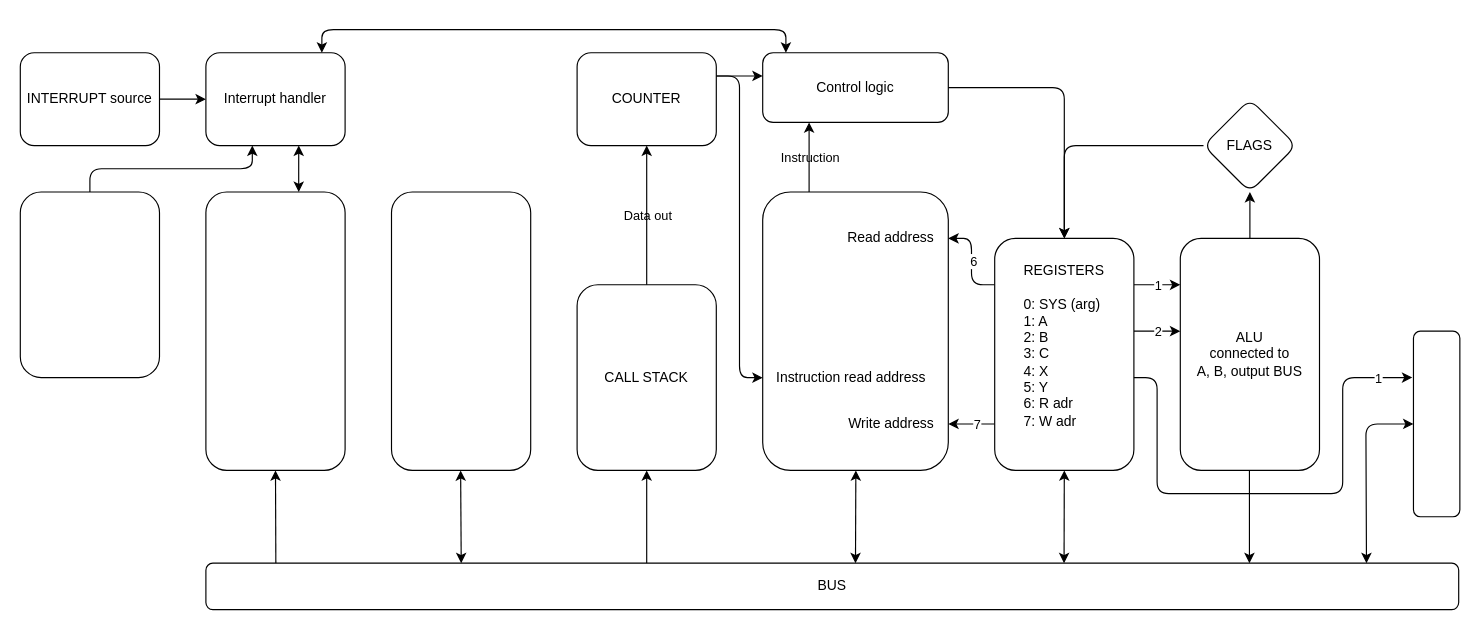
The diagram is 1480 pixels wide and 630 high, and some of its shapes have lost their labels. The box of each missing label's shape, as (x1, y1, x2, y2) in pixels:
DATA STACK: (390, 191, 531, 470)
INTERRUPT STACK addresses: (19, 191, 160, 378)
INTERRUPT STACK register data storage: (205, 191, 345, 470)
MEMORY: (762, 191, 948, 470)
PORTS: (1412, 330, 1460, 517)
